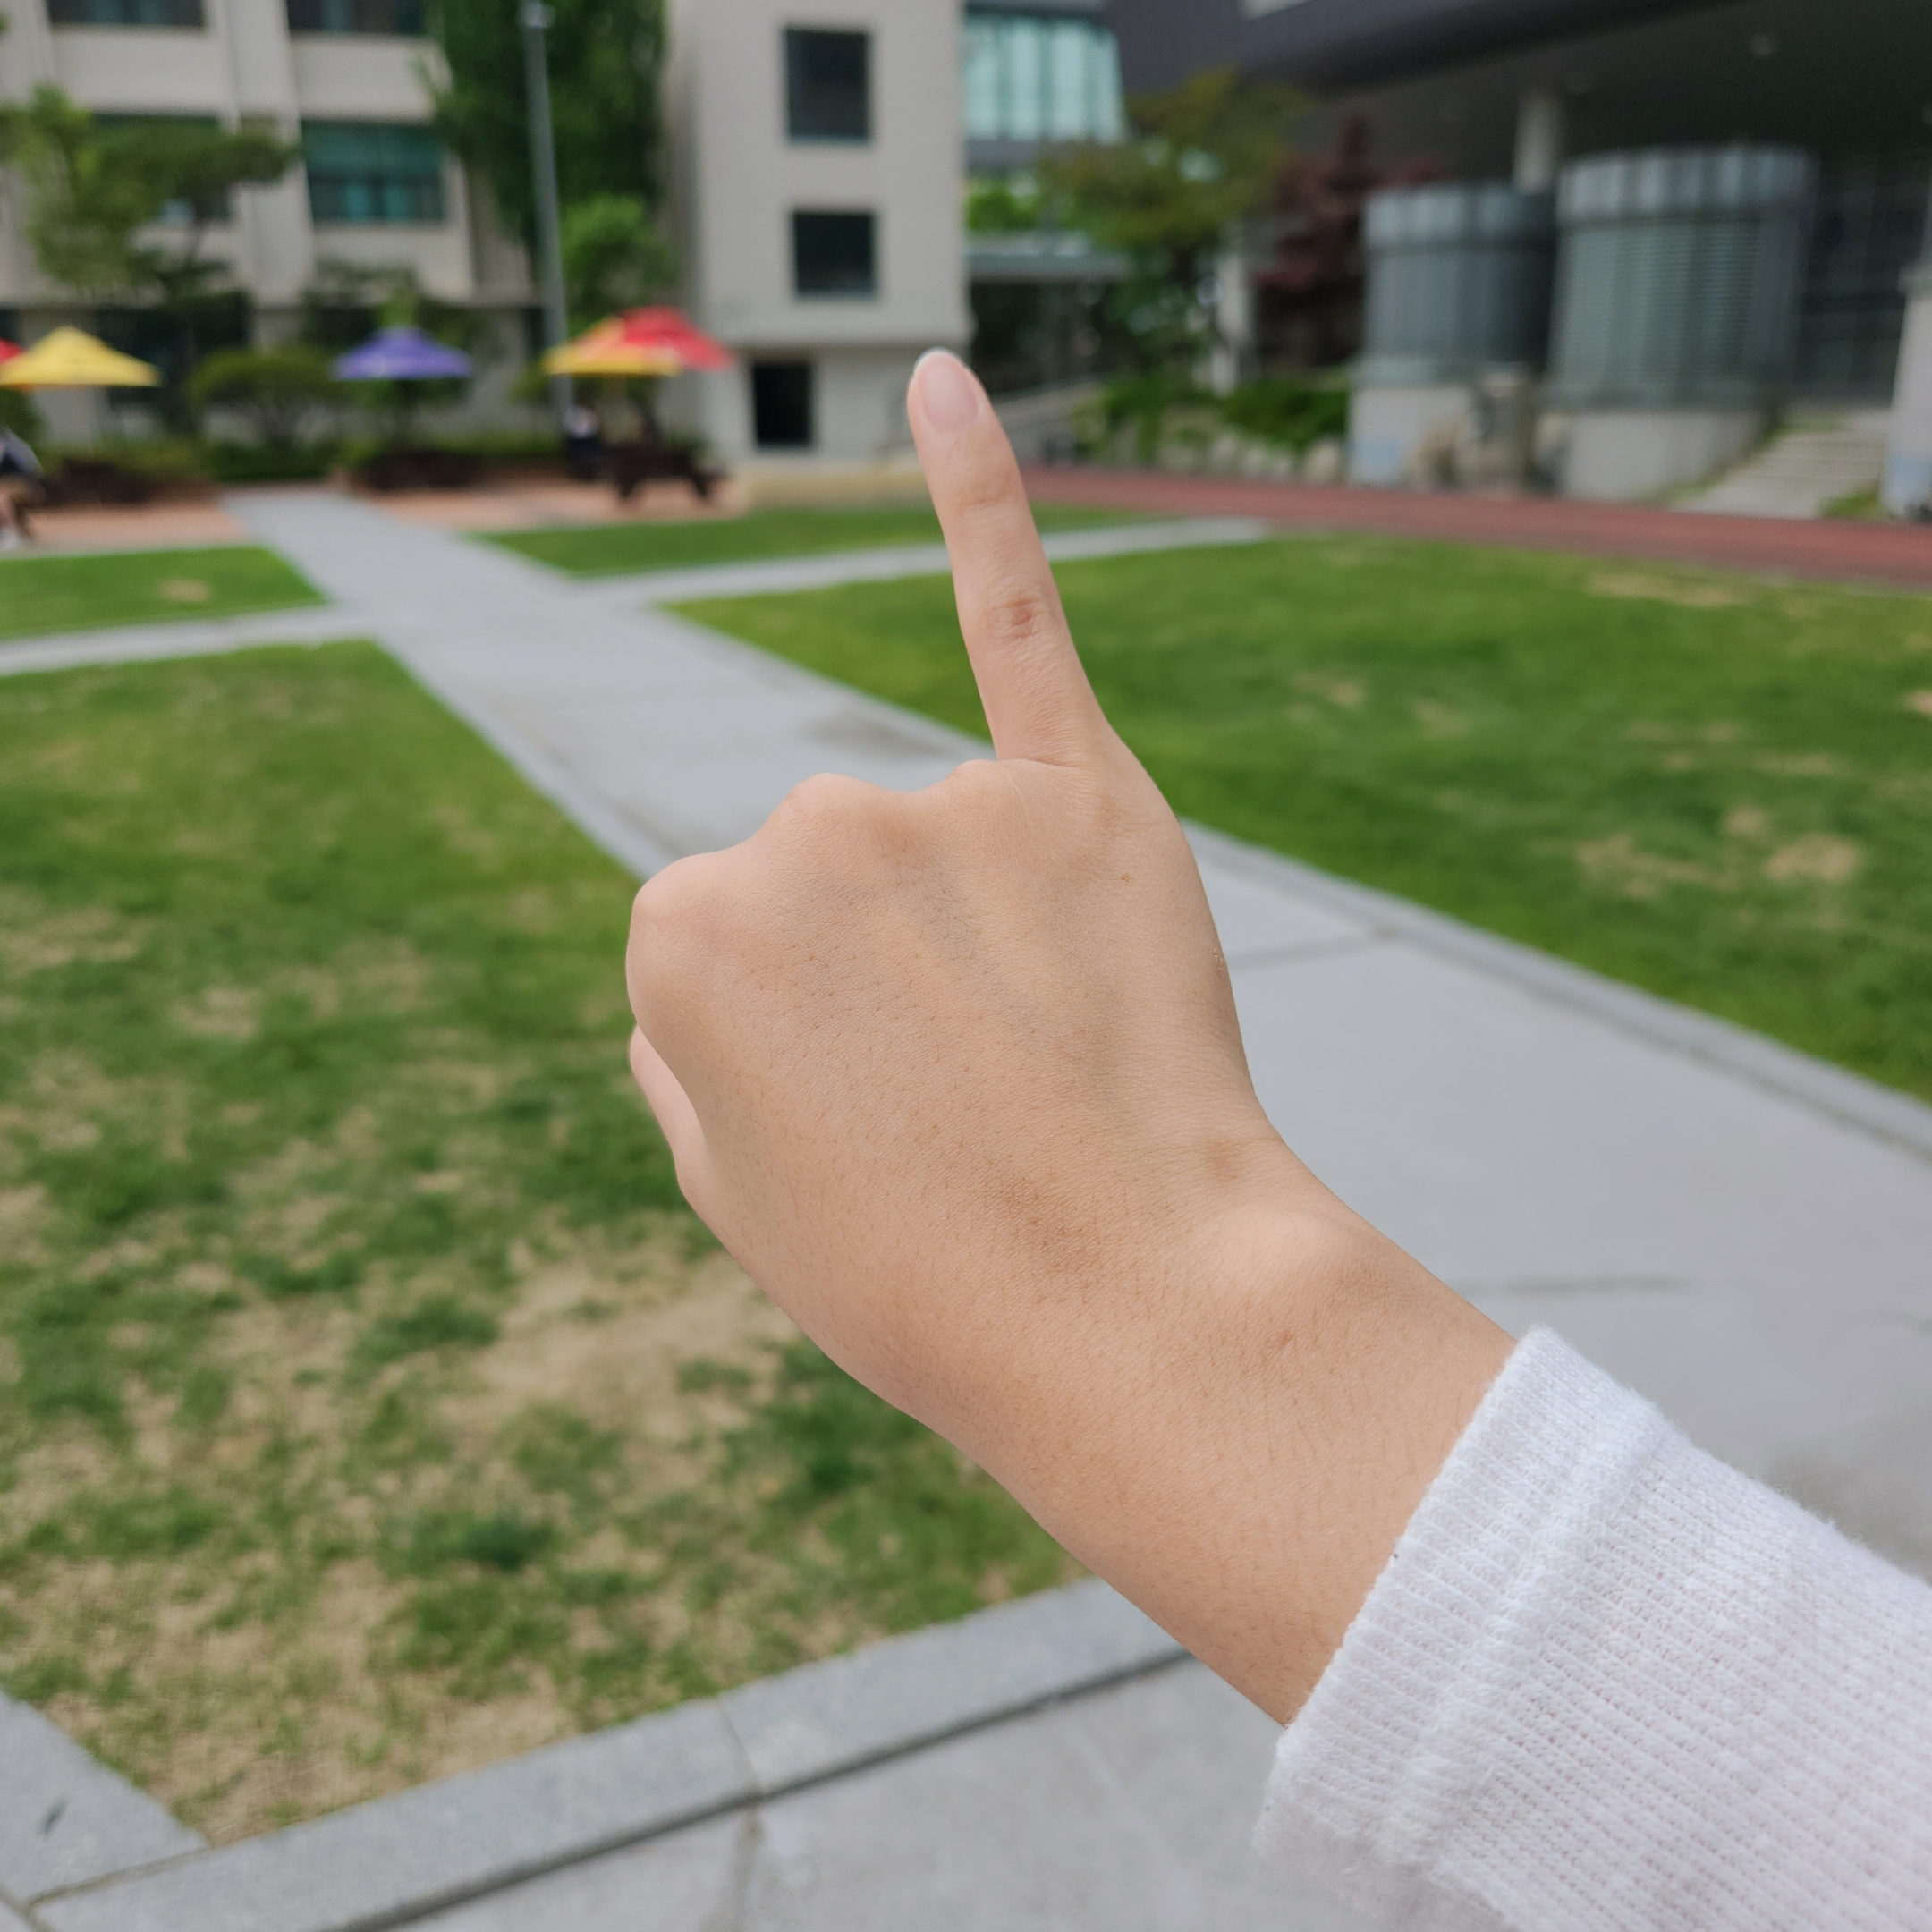fine: (614, 345, 1286, 1411)
